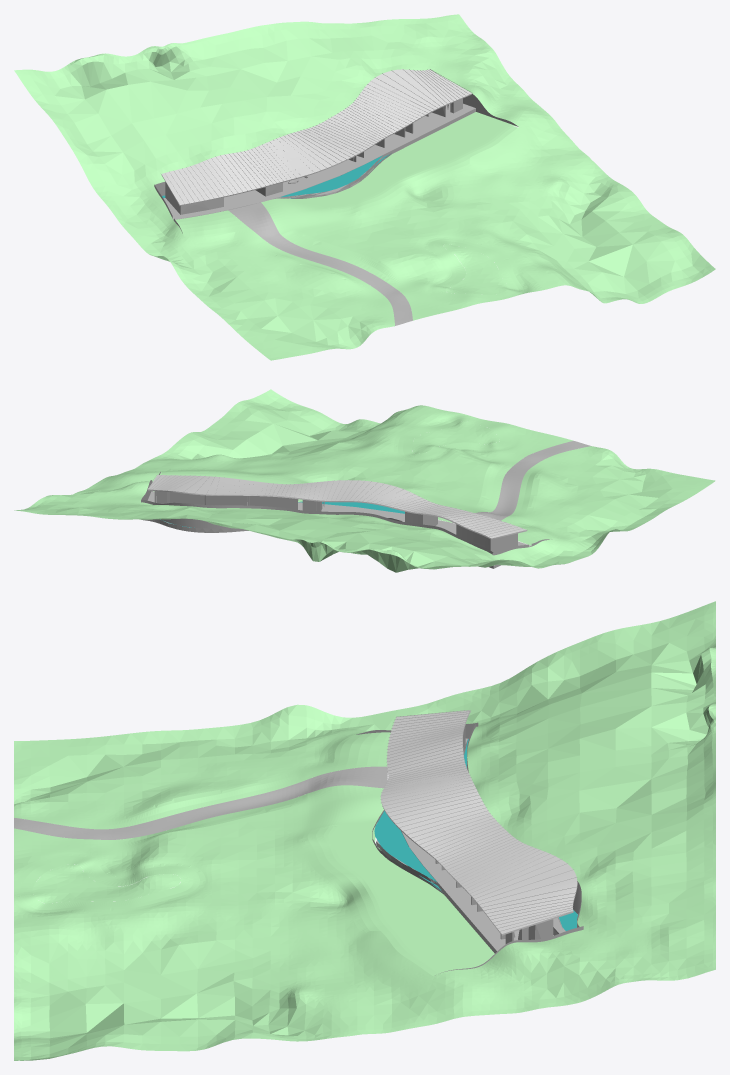
File: Project 02_Not a Hotel.glb
3 renders of one model, top to bottom at view 1: azimuth 30°, elevation 25°; view 2: azimuth 150°, elevation 25°; view 3: azimuth 270°, elevation 25°, orthographic. The views are drawn at different scales.
Size of the model in its own units: 83.85 by 24.57 by 83.85.
